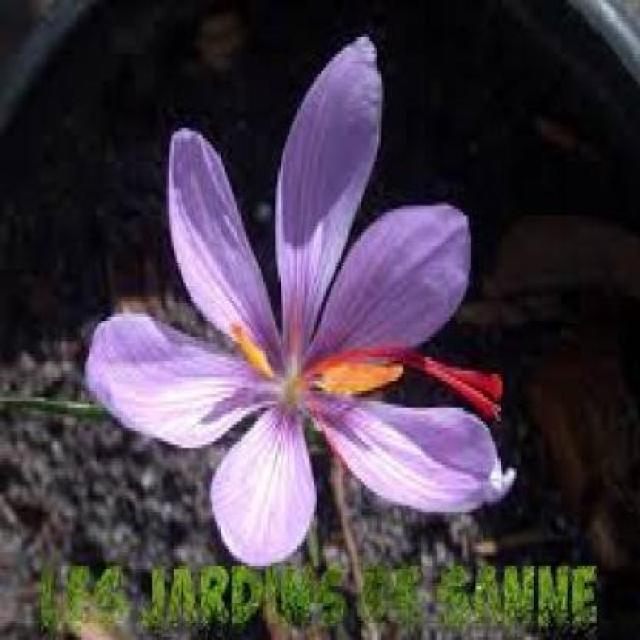Flower: (88, 34, 523, 566)
stigma: (308, 336, 502, 414)
